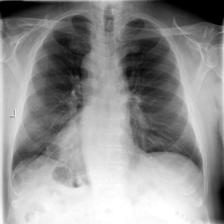normal: (10, 11, 209, 202)
